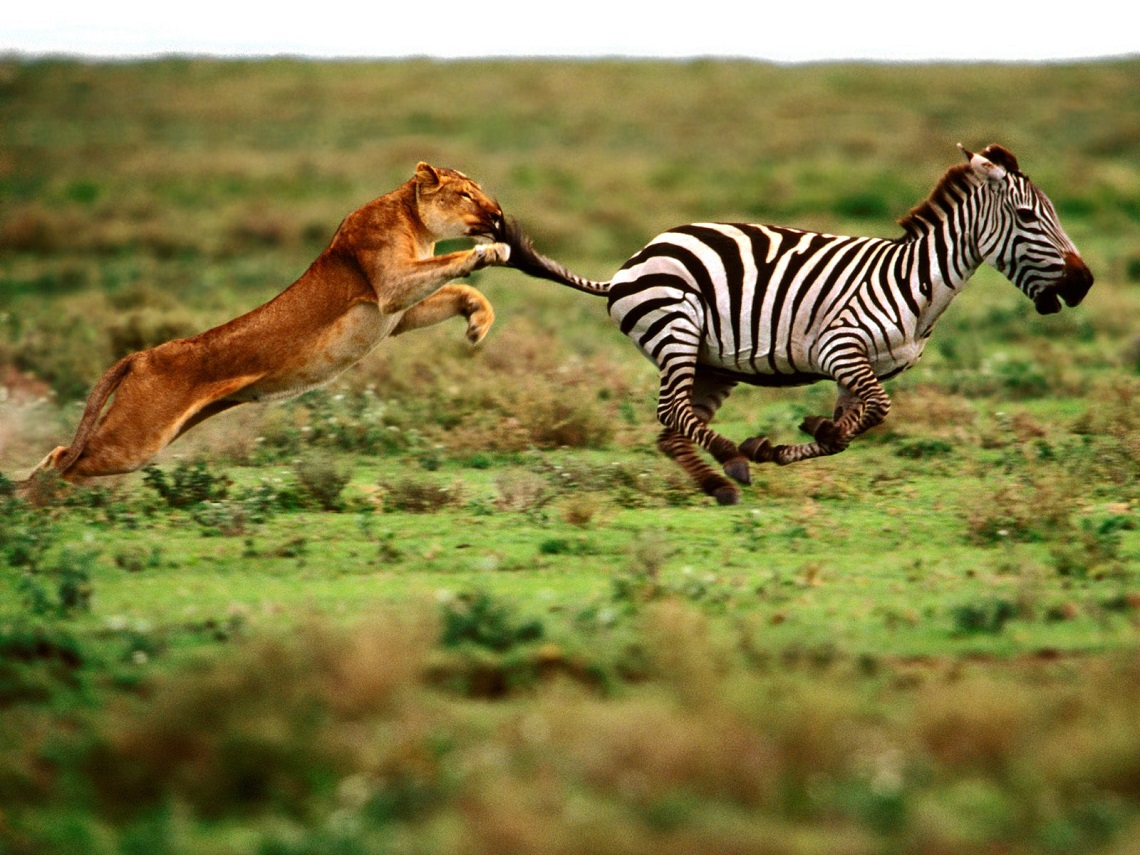lion: (30, 150, 507, 516)
zebra: (498, 134, 1089, 516)
